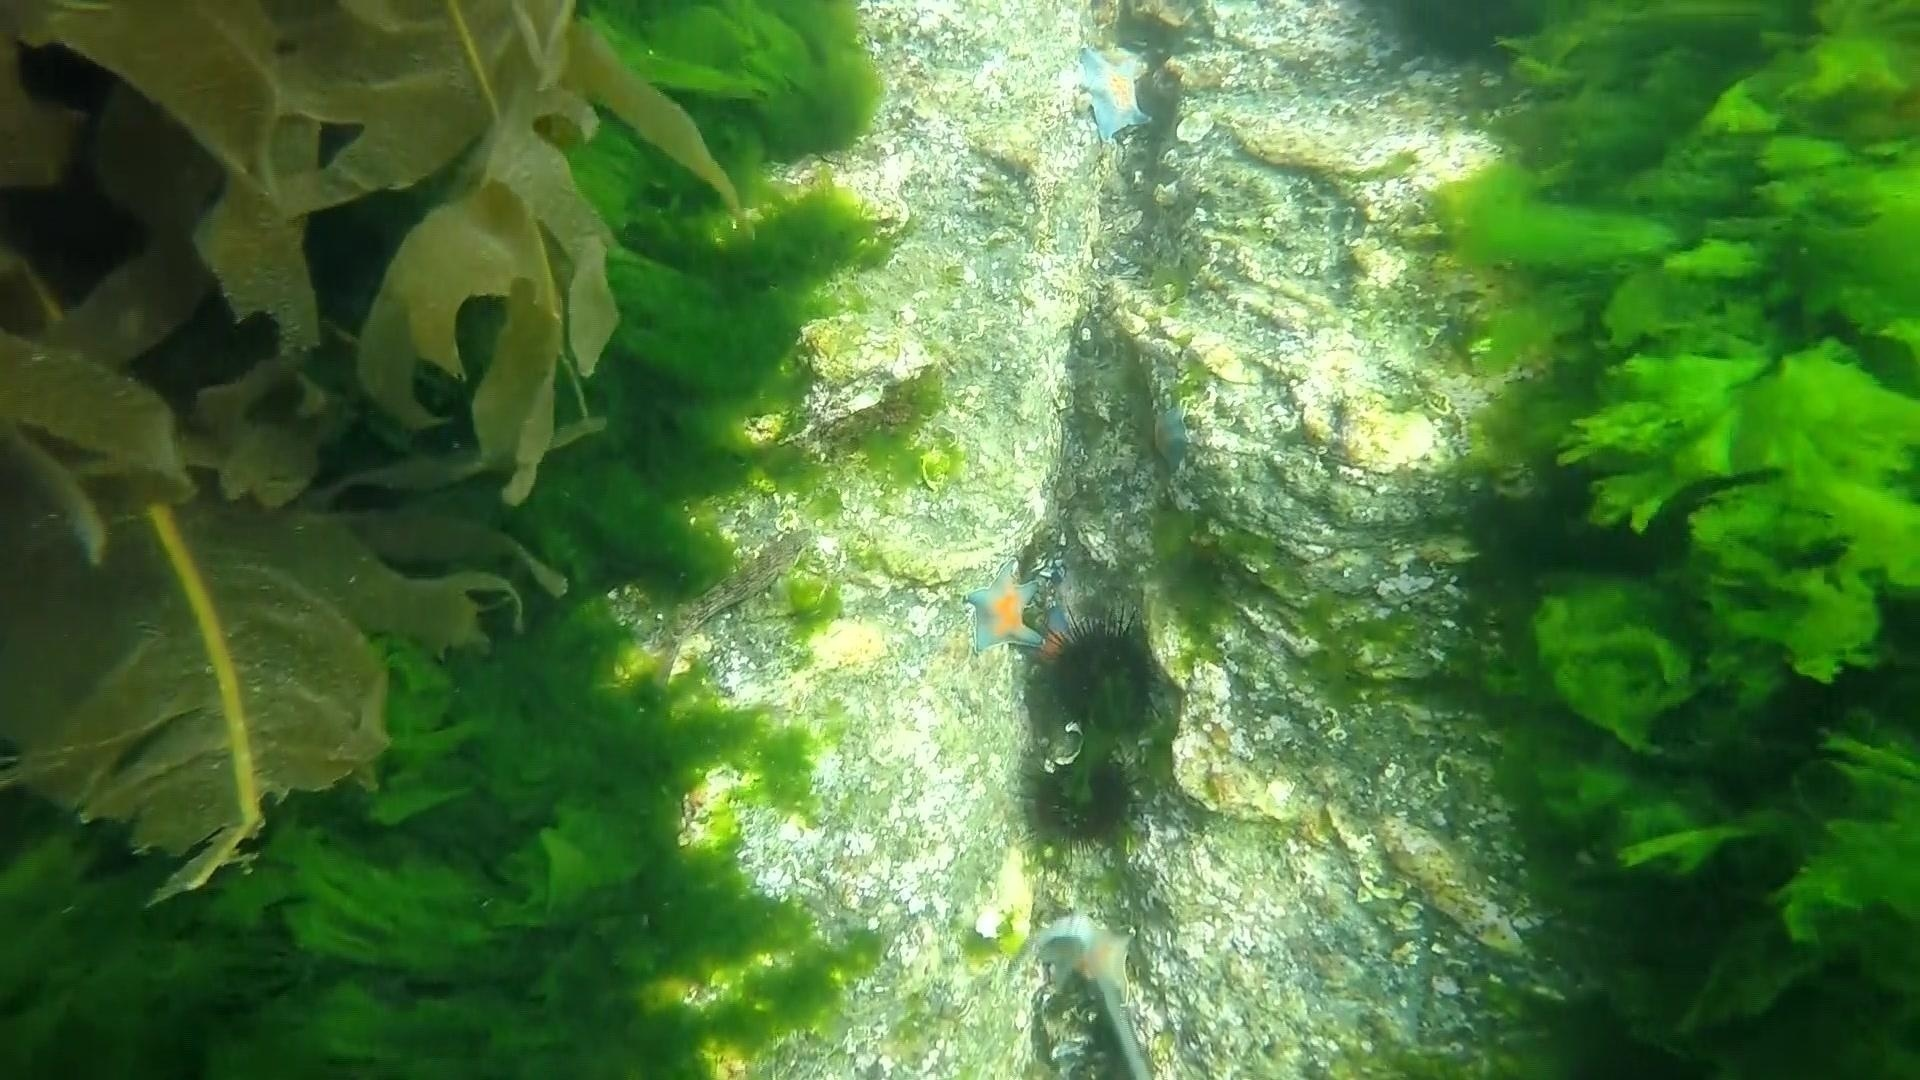echinus: (1035, 613, 1170, 741), (1015, 745, 1145, 857)
starfish: (1029, 902, 1145, 1014), (1067, 38, 1160, 146), (956, 560, 1052, 662), (1145, 394, 1203, 475), (1021, 595, 1084, 663)
